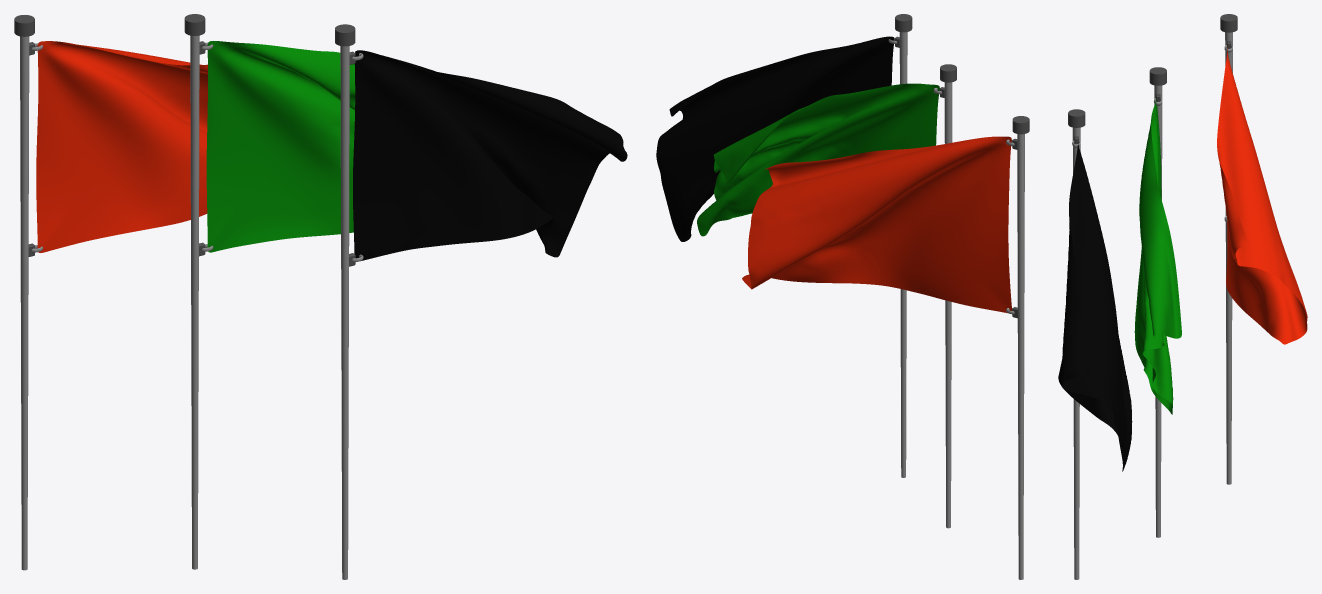
The model's file is Drapeaux.fbx.
3 views of the same model, side by side, from view 1: azimuth 30°, elevation 25°; view 2: azimuth 150°, elevation 25°; view 3: azimuth 270°, elevation 25° (orthographic). The views are drawn at different scales.
Visible parts, largest first — view 1: Plane.002, Plane, Plane.001, Circle; view 2: Plane, Plane.002, Plane.001, Circle; view 3: Plane, Plane.002, Plane.001, Circle.
Boxes of the visible parts, box(x1,y1,x2,y2) form: Plane.002: box(353, 50, 627, 260); Plane: box(36, 41, 207, 252); Plane.001: box(206, 41, 355, 252); Circle: box(14, 14, 363, 579); Plane: box(742, 136, 1011, 313); Plane.002: box(656, 36, 894, 241); Plane.001: box(697, 83, 939, 236); Circle: box(888, 14, 1029, 579); Plane: box(1217, 45, 1307, 344); Plane.002: box(1058, 143, 1132, 471); Plane.001: box(1134, 98, 1181, 414); Circle: box(1068, 14, 1237, 579).
Size of the model in its own units: 511 by 518 by 251.
